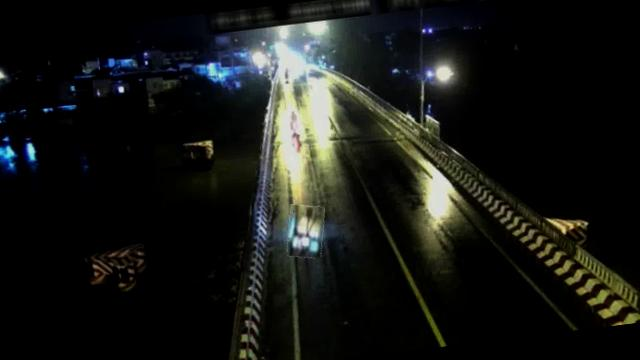Bike: (282, 202, 328, 260)
